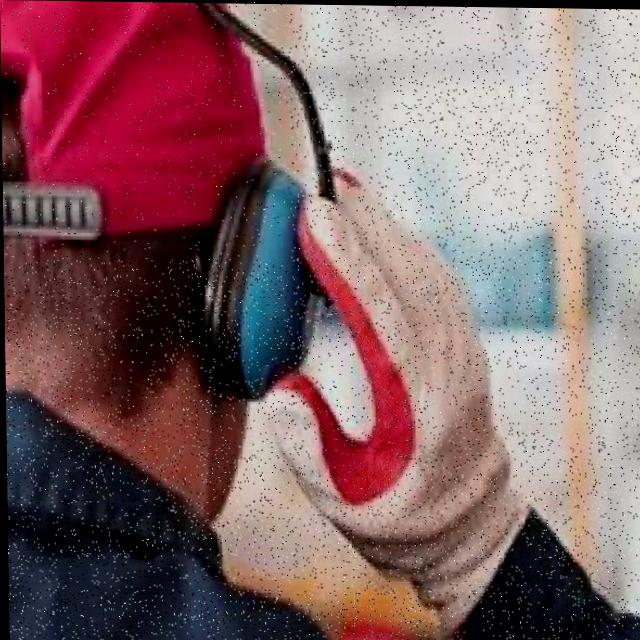Gloves: (217, 155, 522, 584)
